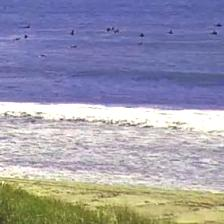surfer: (210, 29, 218, 36), (68, 44, 77, 50), (138, 33, 145, 39), (11, 36, 21, 40), (23, 34, 29, 40), (22, 25, 31, 29), (70, 30, 75, 36), (105, 27, 111, 32), (216, 23, 222, 28), (39, 54, 46, 58), (114, 30, 120, 34), (138, 42, 144, 46), (167, 30, 173, 34)
